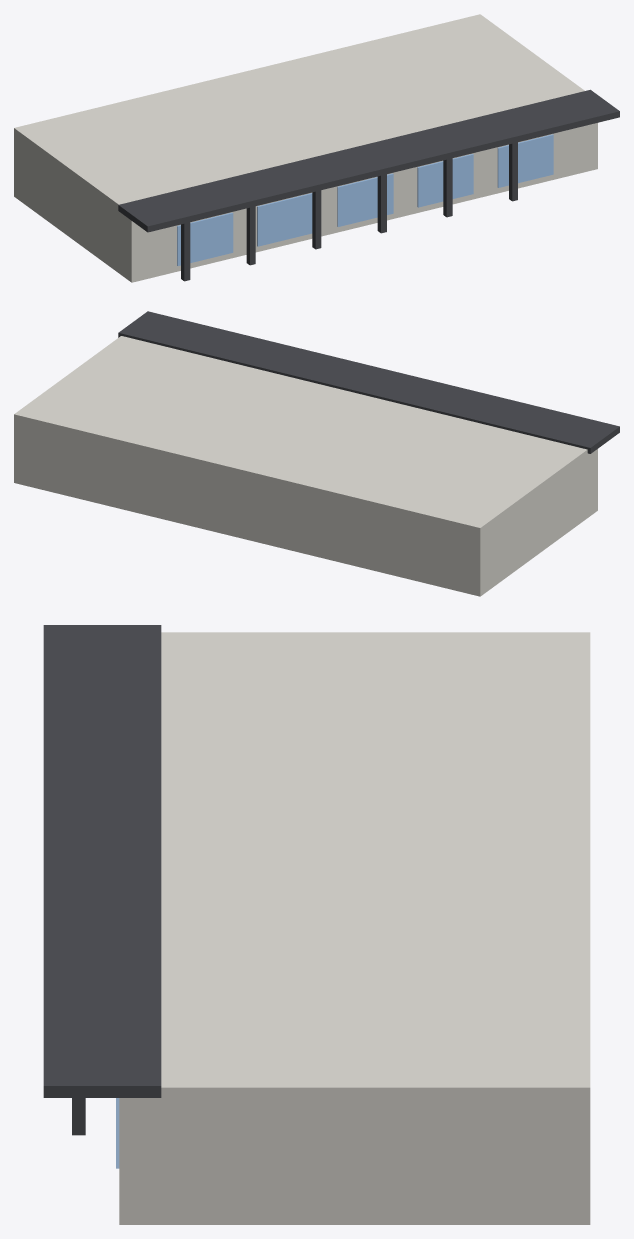
The model's file is amenities-block.glb.
3 renders of one model, top to bottom at view 1: azimuth 30°, elevation 25°; view 2: azimuth 150°, elevation 25°; view 3: azimuth 270°, elevation 25°, orthographic. The views are drawn at different scales.
Parts seen in each view (by area): view 1: Campus_Amenities_Shopping_Centre; view 2: Campus_Amenities_Shopping_Centre; view 3: Campus_Amenities_Shopping_Centre.
Part boxes in pixels (x1=…): Campus_Amenities_Shopping_Centre: x1=14, y1=14, x2=619, y2=282; Campus_Amenities_Shopping_Centre: x1=14, y1=311, x2=619, y2=596; Campus_Amenities_Shopping_Centre: x1=43, y1=625, x2=590, y2=1224.
Size of the model in its own units: 32.4 by 4.65 by 16.25.
